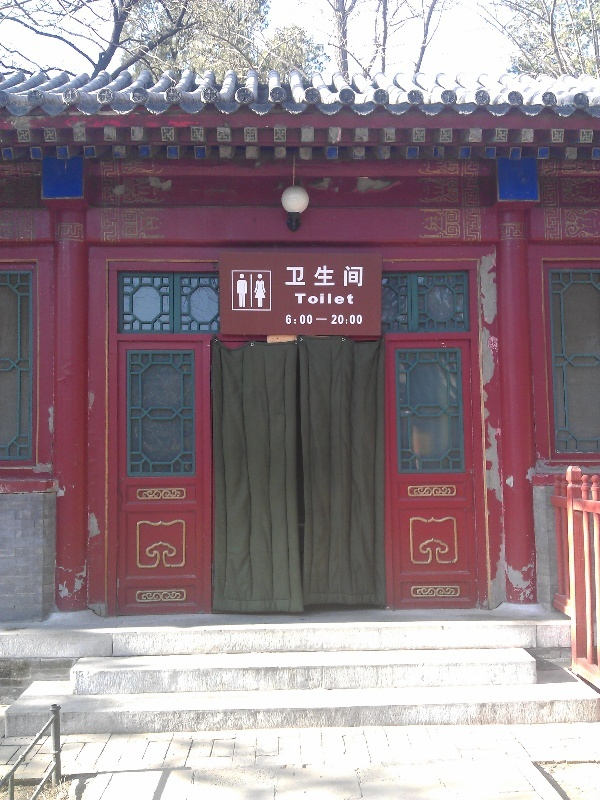text: (289, 265, 304, 288), (305, 265, 320, 288), (321, 265, 336, 288), (337, 265, 352, 288), (353, 265, 364, 288), (305, 293, 320, 305), (321, 293, 336, 305), (337, 293, 352, 305), (289, 314, 304, 326), (337, 314, 352, 325), (353, 314, 363, 325), (295, 293, 304, 305), (305, 314, 314, 326), (331, 314, 336, 325), (286, 265, 288, 288), (285, 314, 288, 326), (321, 317, 329, 321), (353, 293, 355, 305), (316, 317, 320, 321)
